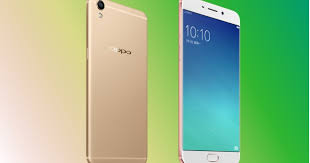oppo: (176, 1, 246, 163), (83, 1, 153, 161)
